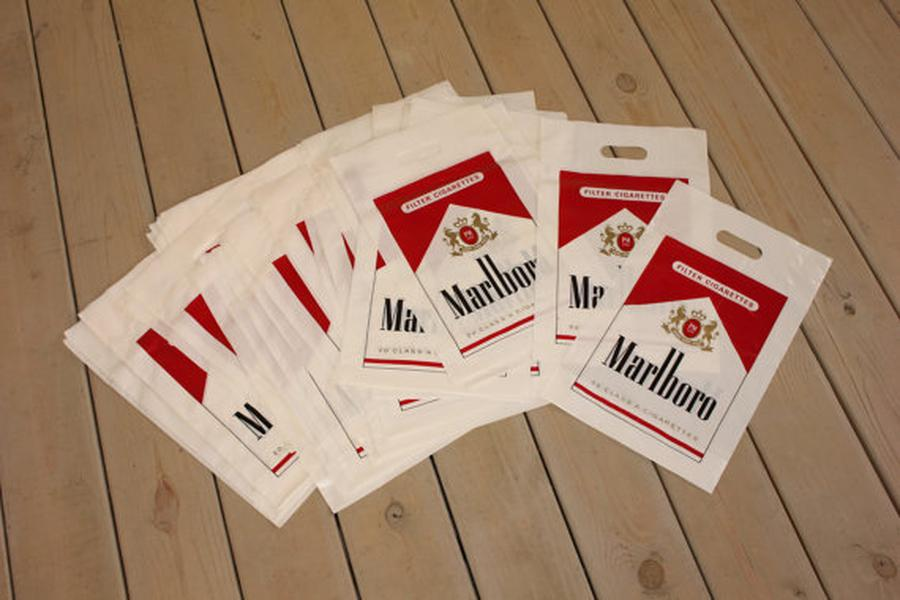marlboro_red: (604, 257, 746, 454), (417, 161, 542, 341), (559, 171, 676, 344)
